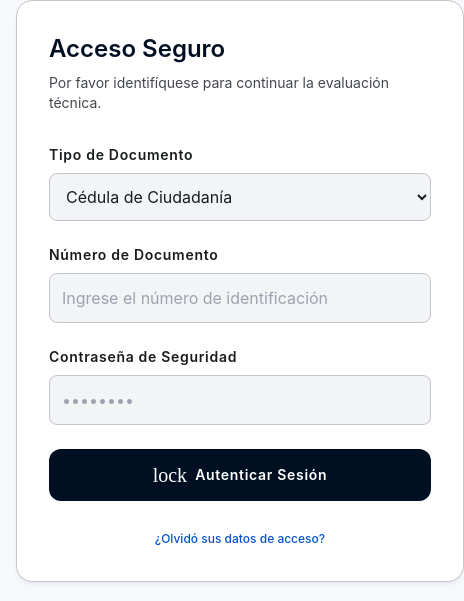
Test: AuthForm › only accepts numeric characters in doc number
Step 1. Type "abc123def" into the field with placeholder "Ingrese el número de identificación" → (240, 298), box [49,273,431,323]
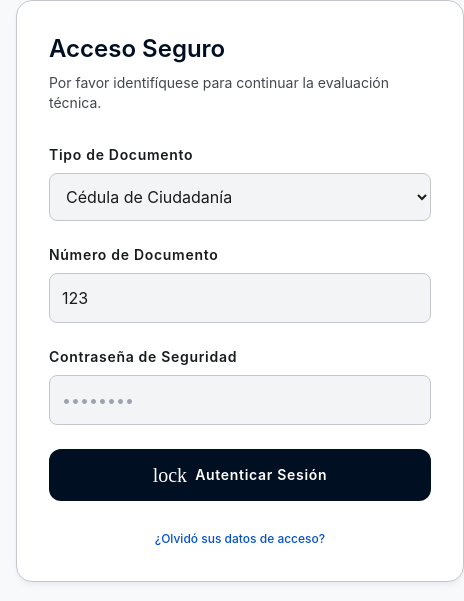
Expected: the field with placeholder "Ingrese el número de identificación" holds "123", [49,273,431,323]
